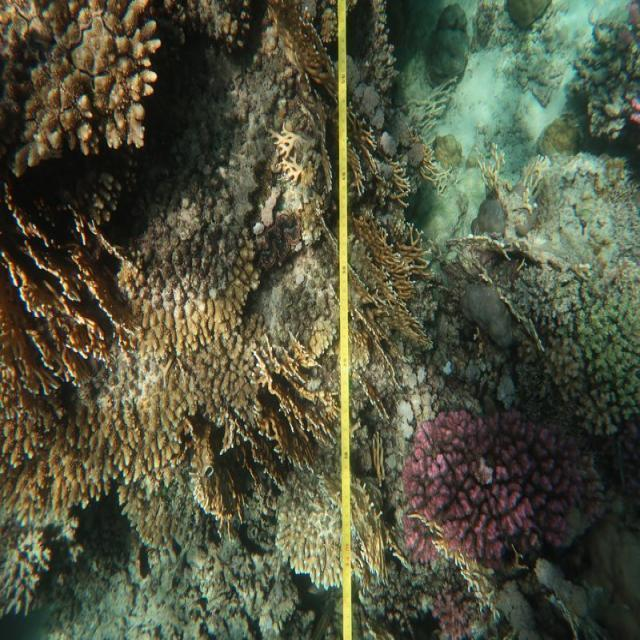Healthy Coral: (391, 406, 606, 591), (0, 180, 153, 400), (0, 0, 177, 178)
